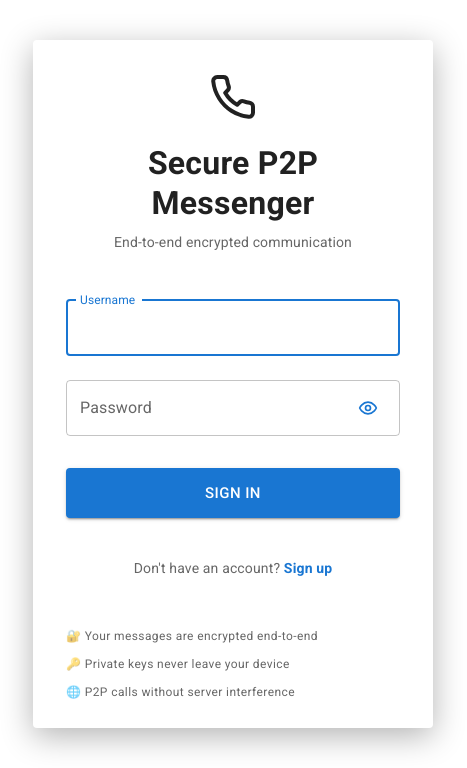
Test: LoginForm › shows validation errors for empty fields
Click the button "Sign In": (233, 493) [66,468,400,518]
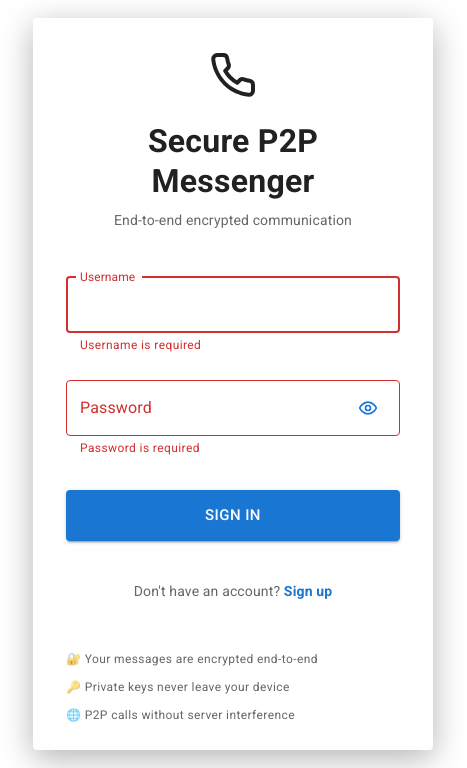
Result: the text "Username is required" is shown at [80,338,201,352]
Result: the text "Password is required" is shown at [80,440,200,454]
